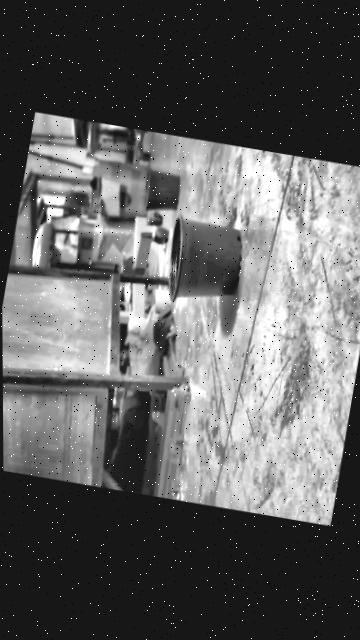pot: (161, 215, 246, 310), (139, 167, 183, 215)
